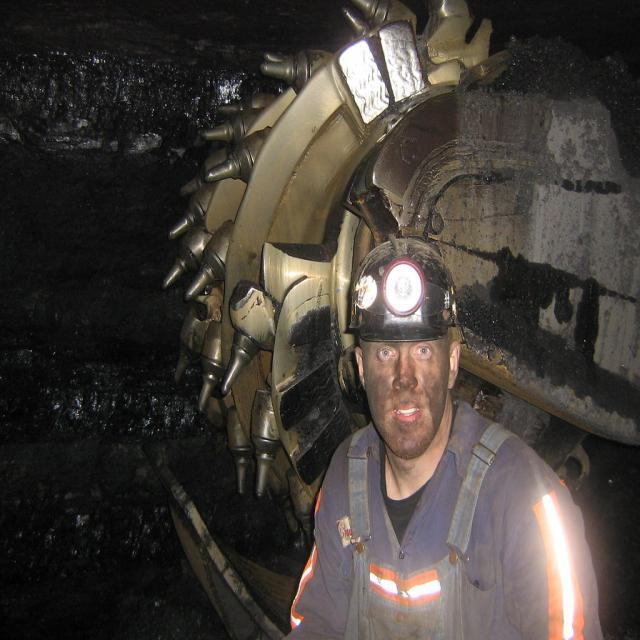No_Goggles: (367, 339, 444, 376)
